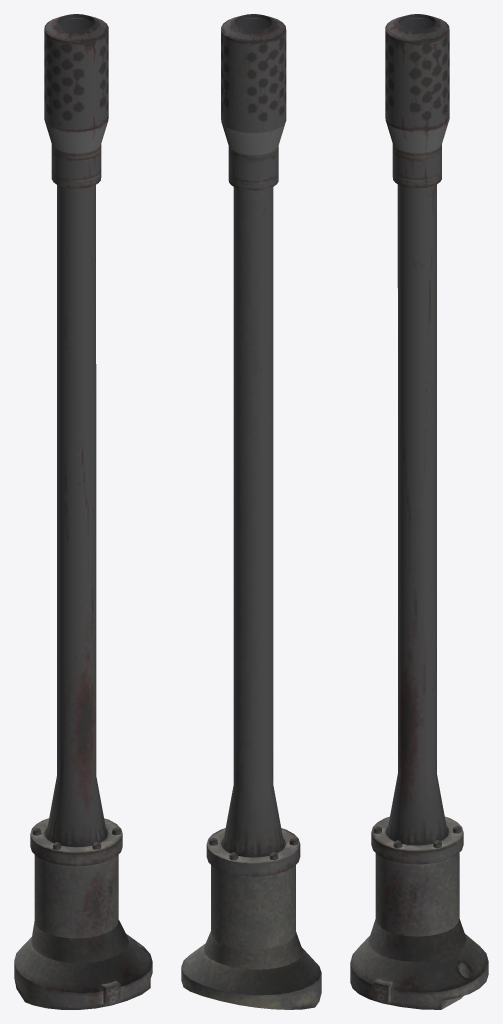
File: Gun_09.glb
3 renders of one model, left to right at view 1: azimuth 30°, elevation 25°; view 2: azimuth 150°, elevation 25°; view 3: azimuth 330°, elevation 25°, orthographic.
Parts seen in each view (by area): view 1: set_0_group_0; view 2: set_0_group_0; view 3: set_0_group_0.
Part boxes in pixels (x1,y1,x2,y2): set_0_group_0: (14, 14, 152, 1009); set_0_group_0: (181, 14, 321, 1009); set_0_group_0: (350, 14, 488, 1009).
Bounding box in the file's own units: 0.7114 × 5.4 × 0.6768.
Materials: 1 (1 with a texture image).
